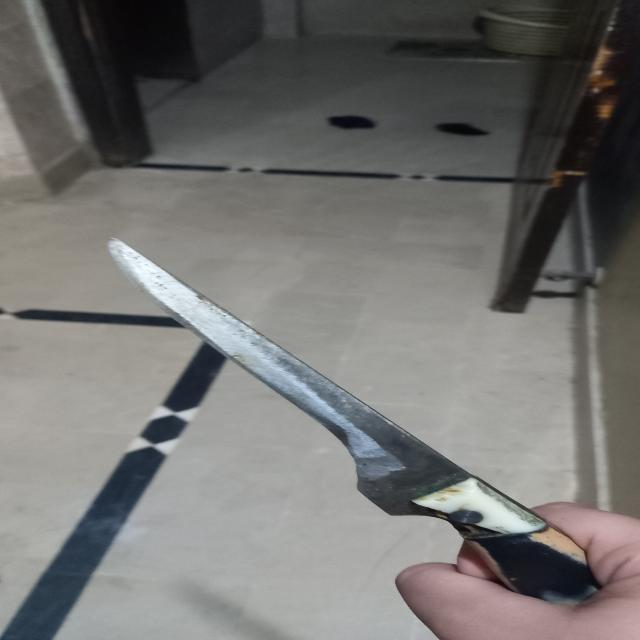Knife: (99, 232, 623, 630)
